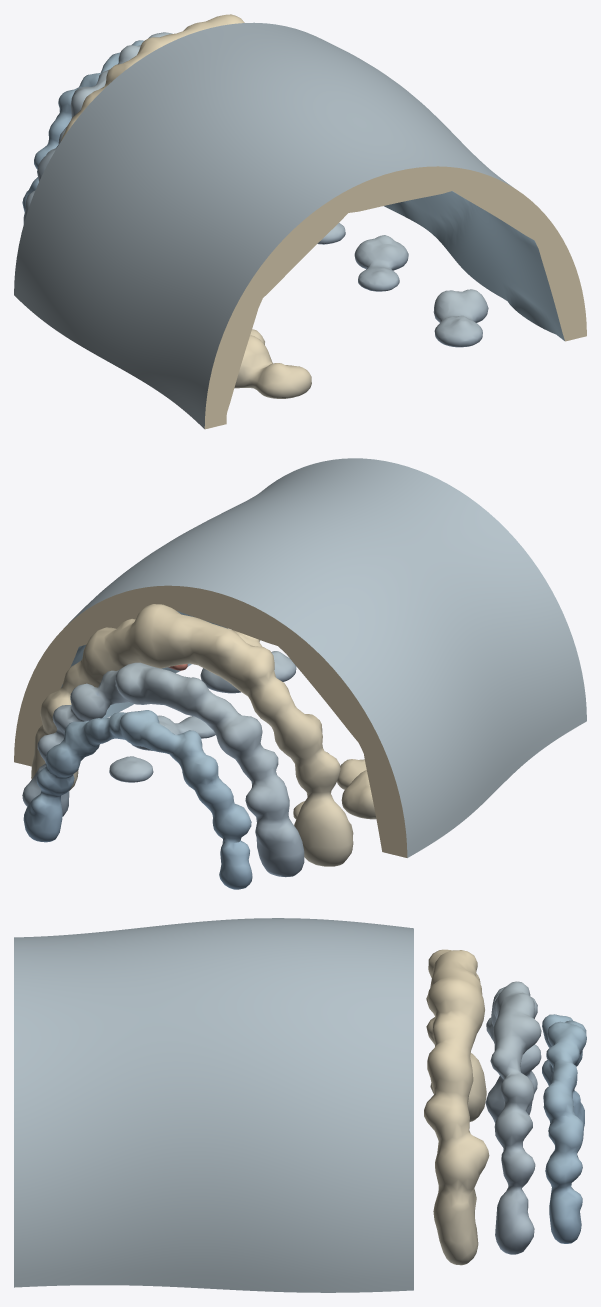
Rendered from playroom-cloud-corridor-v2.glb.
3 renders of one model, top to bottom at view 1: azimuth 30°, elevation 25°; view 2: azimuth 150°, elevation 25°; view 3: azimuth 270°, elevation 25°, orthographic. The views are drawn at different scales.
Visible parts, largest first — view 1: CloudCorridorShell body, CloudFloorBanks body, DistantCloudGate body; view 2: CloudCorridorShell body, DistantCloudGate body, CloudFloorBanks body; view 3: CloudCorridorShell body, DistantCloudGate body.
Boxes of the visible parts, x1,y1,x2,y2 form: CloudCorridorShell body: [14, 22, 586, 429]; CloudFloorBanks body: [234, 223, 488, 398]; DistantCloudGate body: [22, 14, 244, 224]; CloudCorridorShell body: [14, 458, 586, 857]; DistantCloudGate body: [22, 604, 353, 889]; CloudFloorBanks body: [109, 651, 376, 819]; CloudCorridorShell body: [14, 918, 413, 1292]; DistantCloudGate body: [424, 949, 586, 1265].
Bounding box in the file's own units: 27.6 × 15.01 × 31.51.
